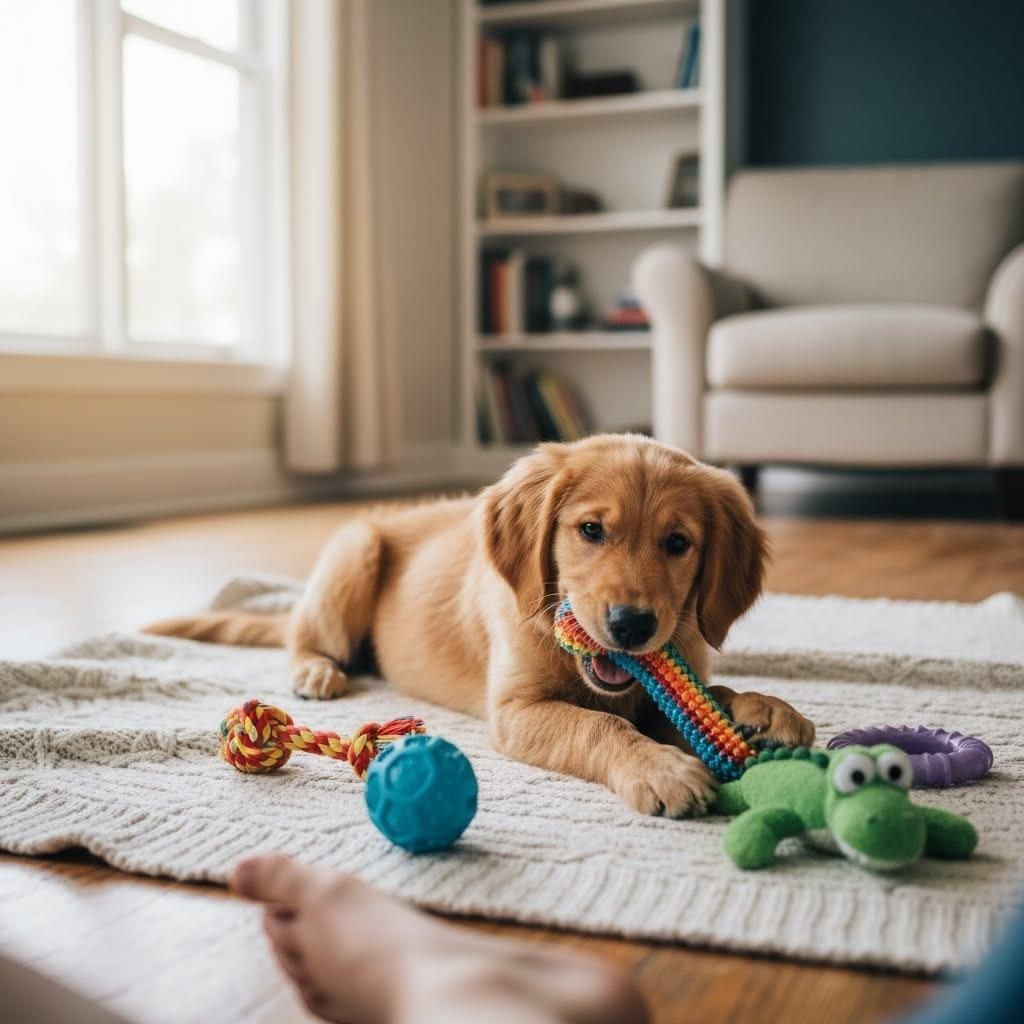puppy-dog: (136, 430, 817, 820)
